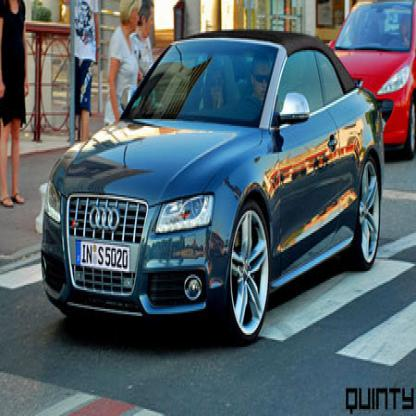Vehicle: (43, 27, 384, 341)
